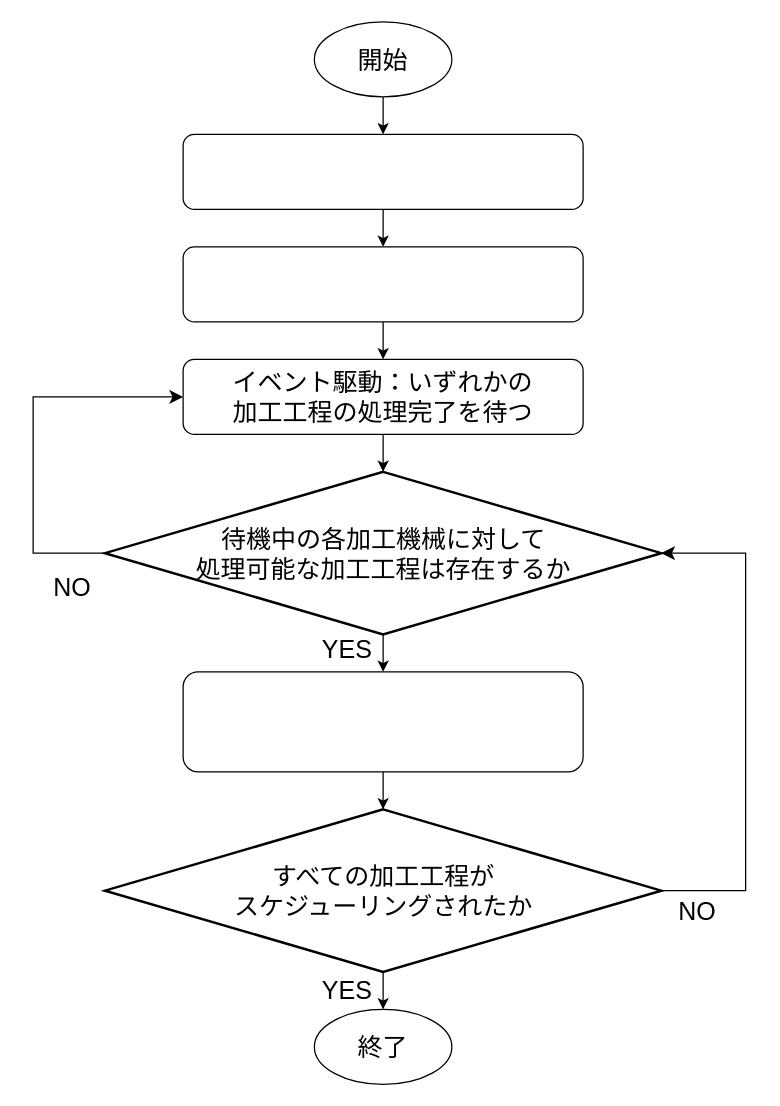
Image size: 780x1106. Some labels were removed from this diagram. Each missing label, with the centre of its shape:
処理可能な加工工程の集合から待機中の加工機械に新たな加工工程を割り当てる: point (382, 721)
初期化：各加工機械に対して処理可能な加工工程を割り当てる: point (382, 284)
各製品の加工工程、割り当て機械及び加工時間を決める: point (382, 171)
